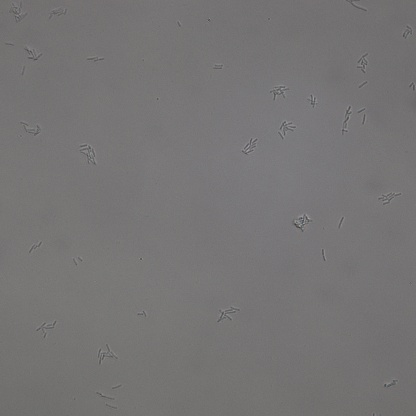R(colony): (96, 342, 118, 364), (8, 1, 27, 24), (37, 320, 58, 339), (277, 119, 296, 140), (217, 306, 240, 323), (80, 143, 96, 166), (240, 137, 259, 156), (340, 105, 352, 135), (378, 191, 401, 206), (269, 84, 290, 100), (21, 121, 43, 136), (355, 53, 368, 74), (26, 49, 43, 63)
